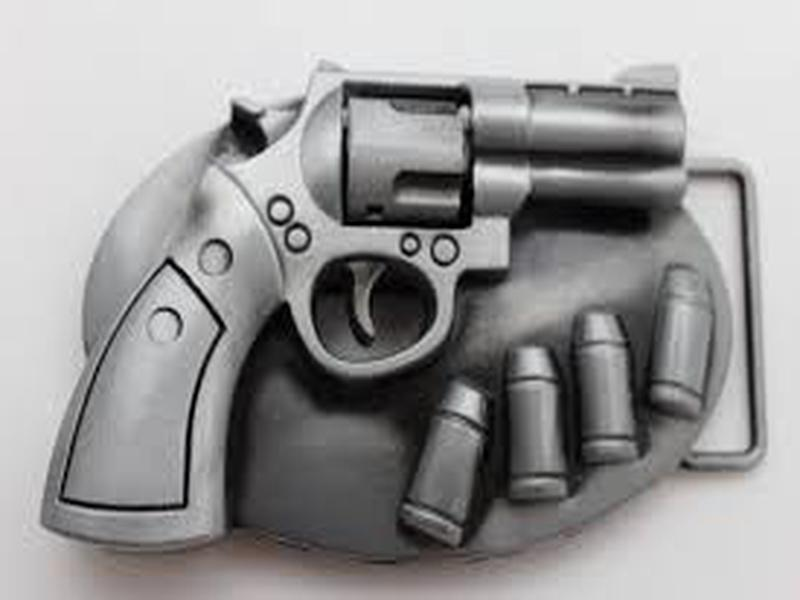gun: (37, 41, 727, 548)
